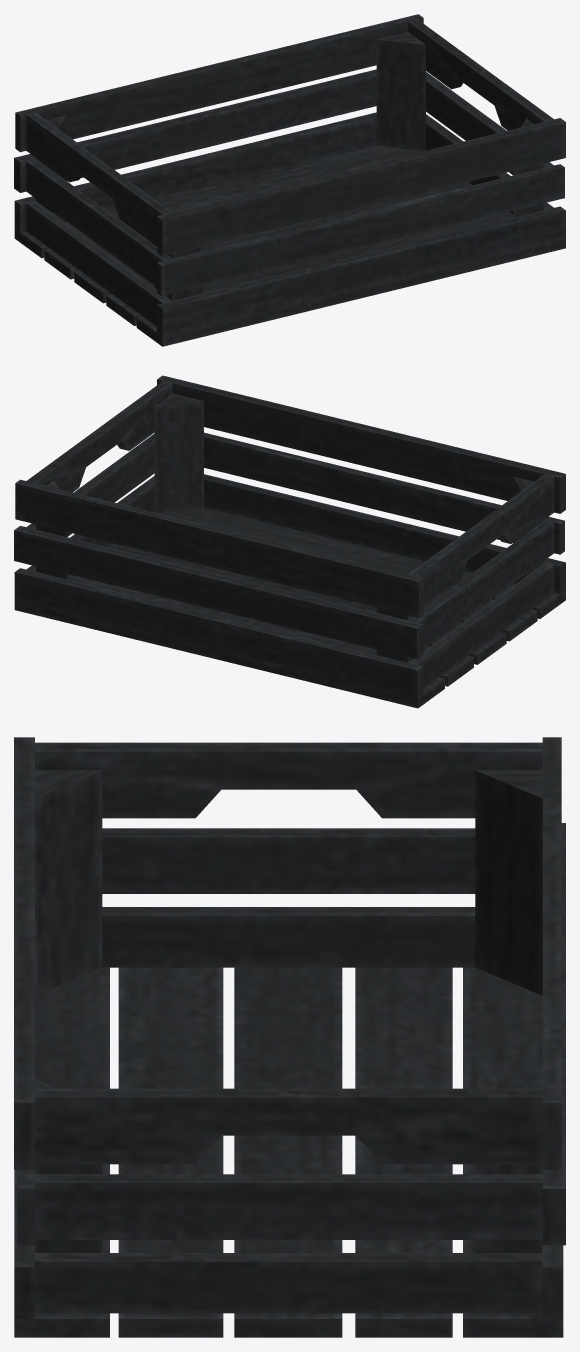
Rendered from supply_crate_1_4_empty.obj.
3 views of the same model, one above another, from view 1: azimuth 30°, elevation 25°; view 2: azimuth 150°, elevation 25°; view 3: azimuth 270°, elevation 25° (orthographic). The views are drawn at different scales.
Visible parts, largest first — view 1: supply_crate_1_4_empty; view 2: supply_crate_1_4_empty; view 3: supply_crate_1_4_empty.
Part boxes in pixels (<box>): supply_crate_1_4_empty: <box>14,14,565,346</box>; supply_crate_1_4_empty: <box>14,375,565,708</box>; supply_crate_1_4_empty: <box>14,737,565,1337</box>.
Bounding box in the file's own units: 0.668 × 0.2 × 0.4262.
